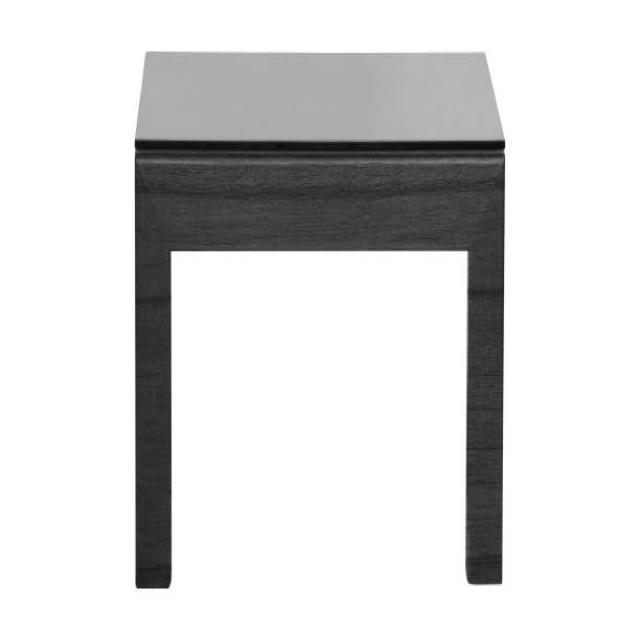table: (134, 49, 506, 588)
